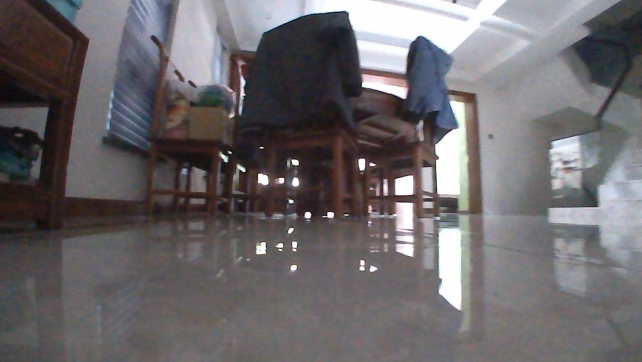dining_table: (140, 8, 461, 219)
